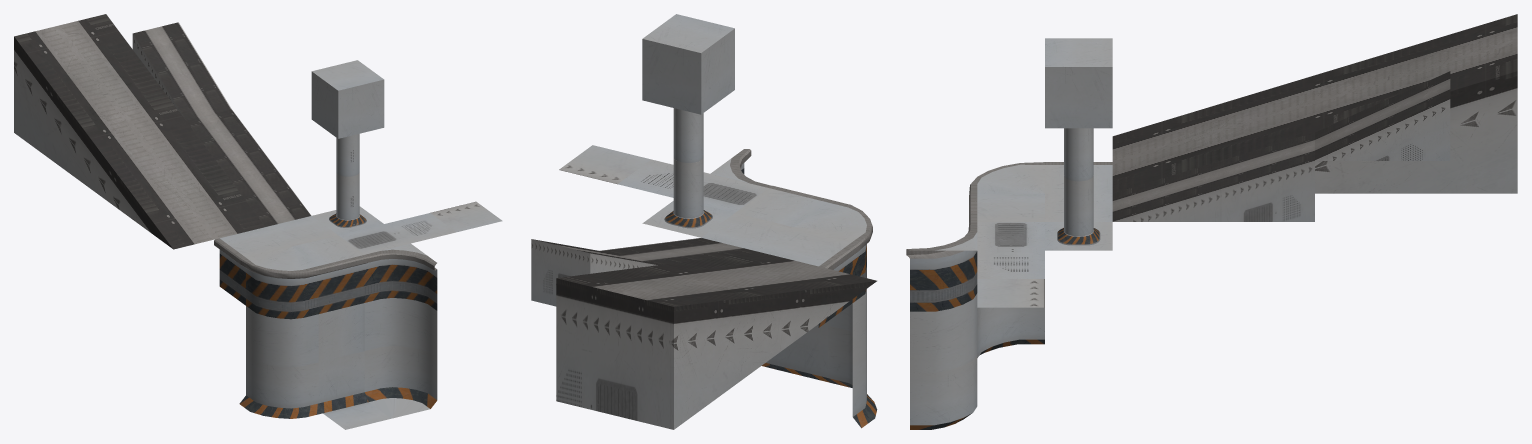
File: parts.dae
The picture shows the model from 3 angles, left to right: view 1: azimuth 30°, elevation 25°; view 2: azimuth 150°, elevation 25°; view 3: azimuth 270°, elevation 25°; orthographic projection. The views are drawn at different scales.
Visible parts, largest first — view 1: ramp 2x6, ramp 1x3, ramp 1x2, Cube, Edge_corner_out, Edge_corner_in, Edge_corner_out_floor, Edge_corner_in.001, corner_in, corner_out, 90 degrees, Edge (+8 smaller); view 2: ramp 2x6, Cube, ramp 1x2, Floor.001, Edge.001, Edge_corner_out, Edge_corner_out_floor, ramp 1x3, Edge, 90 degrees, arrows, Floor (+5 smaller); view 3: ramp 2x6, ramp 1x3, ramp 1x2, Cube, Edge_corner_in.001, corner_in, Edge_corner_in, Floor.001, Edge_corner_out_floor, Edge, Edge_corner_out, arrows (+5 smaller).
Part boxes in pixels (box(x1,y1,x2,y2)): ramp 2x6: box(14, 14, 265, 249); ramp 1x3: box(186, 109, 311, 226); ramp 1x2: box(132, 22, 231, 120); Cube: box(311, 60, 384, 138); Edge_corner_out: box(240, 246, 321, 319); Edge_corner_in: box(364, 346, 437, 418); Edge_corner_out_floor: box(239, 354, 322, 418); Edge_corner_in.001: box(364, 243, 437, 310); corner_in: box(364, 298, 437, 358); corner_out: box(246, 306, 318, 367); 90 degrees: box(318, 351, 390, 429); Edge: box(292, 235, 367, 313); ramp 2x6: box(556, 252, 876, 429); Cube: box(642, 14, 734, 114); ramp 1x2: box(531, 239, 657, 306); Floor.001: box(642, 158, 734, 237); Edge.001: box(760, 227, 859, 327); Edge_corner_out: box(794, 200, 872, 302); Edge_corner_out_floor: box(828, 325, 877, 428); ramp 1x3: box(599, 238, 759, 264); Edge: box(735, 185, 830, 227); 90 degrees: box(769, 324, 832, 383); arrows: box(559, 145, 650, 184); Floor: box(701, 213, 793, 251); ramp 2x6: box(1112, 14, 1517, 193); ramp 1x3: box(1112, 132, 1314, 221); ramp 1x2: box(1315, 71, 1450, 160); Cube: box(1045, 38, 1112, 128); Edge_corner_in.001: box(906, 222, 977, 311); corner_in: box(910, 293, 977, 372); Edge_corner_in: box(910, 355, 977, 429); Floor.001: box(1045, 175, 1112, 250); Edge_corner_out_floor: box(977, 307, 1044, 357); Edge: box(969, 193, 1044, 223); Edge_corner_out: box(969, 162, 1044, 194); arrows: box(977, 279, 1044, 307).
Bounding box in the file's own units: 12 × 18.11 × 12.
